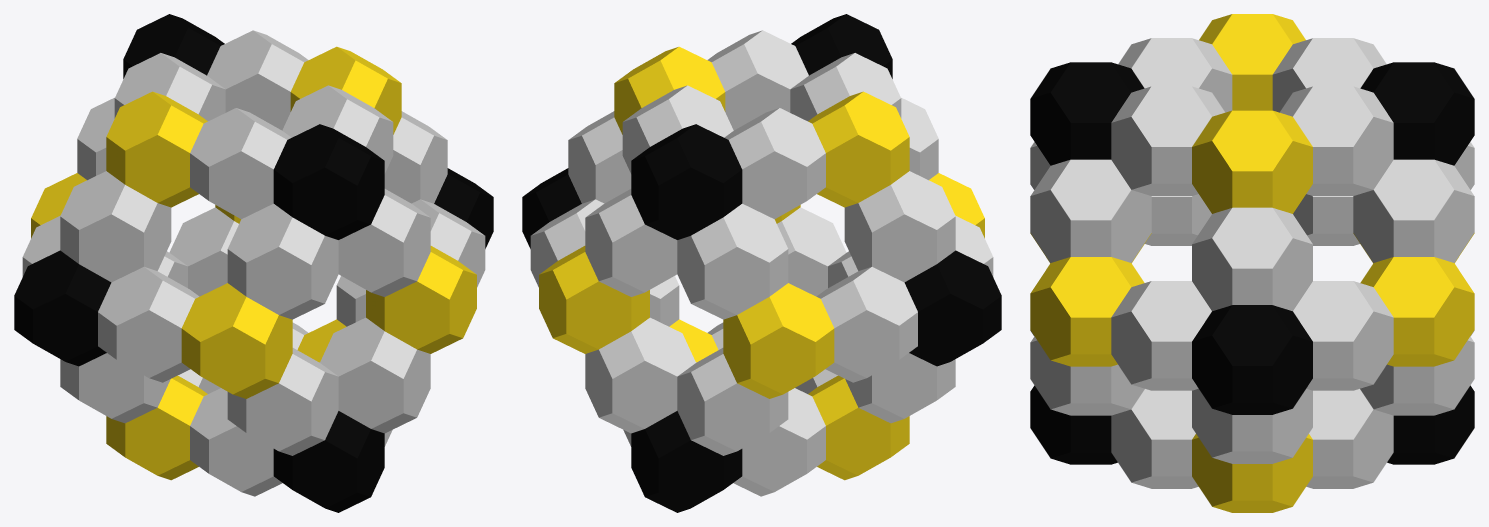
The model's file is TOWARD.glb.
The picture shows the model from 3 angles, left to right: view 1: azimuth 30°, elevation 25°; view 2: azimuth 150°, elevation 25°; view 3: azimuth 270°, elevation 25°; orthographic projection. The views are drawn at different scales.
Visible parts, largest first — view 1: TOWARD; view 2: TOWARD; view 3: TOWARD.
Part boxes in pixels (bbox=[...]): TOWARD: bbox=[14, 14, 493, 512]; TOWARD: bbox=[522, 14, 1001, 512]; TOWARD: bbox=[1030, 14, 1474, 512].
Bounding box in the file's own units: 20 × 15.56 × 15.56.
